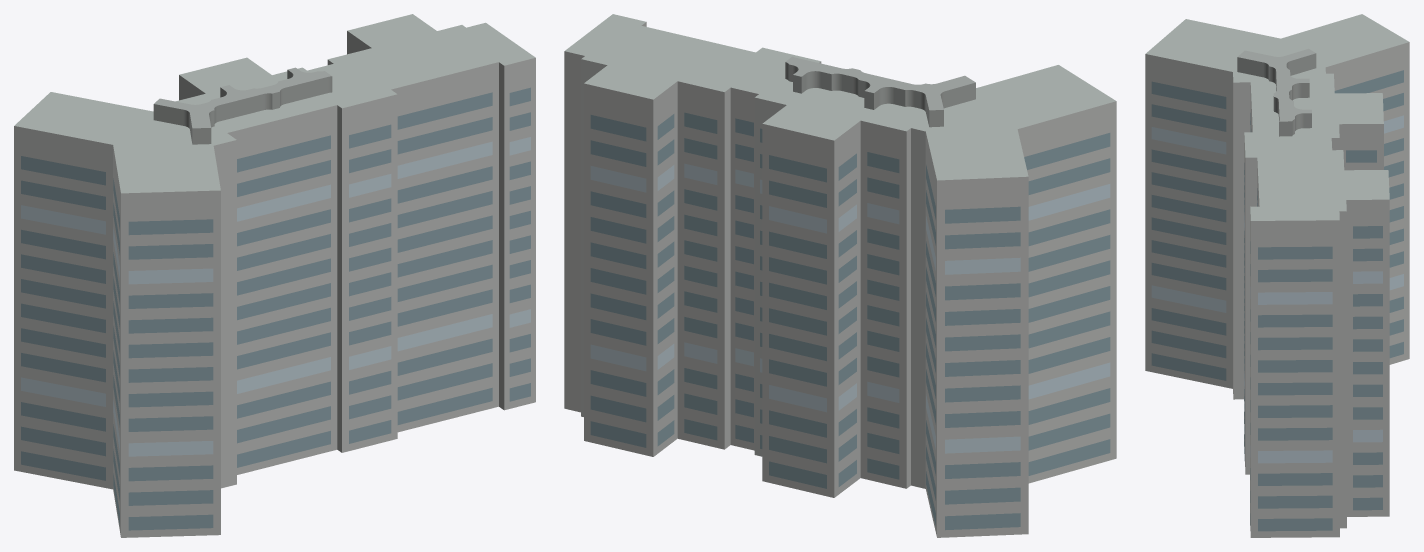
File: fallback-godeok-arteon-322.glb
The picture shows the model from 3 angles, left to right: view 1: azimuth 30°, elevation 25°; view 2: azimuth 150°, elevation 25°; view 3: azimuth 270°, elevation 25°; orthographic projection. The views are drawn at different scales.
Visible parts, largest first — view 1: fallback-godeok-arteon-322; view 2: fallback-godeok-arteon-322; view 3: fallback-godeok-arteon-322.
Boxes of the visible parts, x1,y1,x2,y2 form: fallback-godeok-arteon-322: (14,14,535,537); fallback-godeok-arteon-322: (564,14,1116,537); fallback-godeok-arteon-322: (1145,14,1409,537).
Bounding box in the file's own units: 57.55 × 43 × 31.03.
